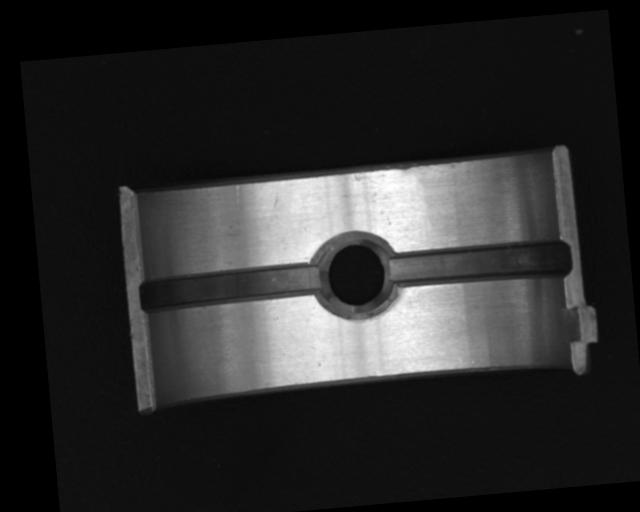gap: (136, 257, 330, 316), (386, 236, 572, 293)
hole: (312, 231, 398, 320)
nick: (232, 183, 243, 205)
